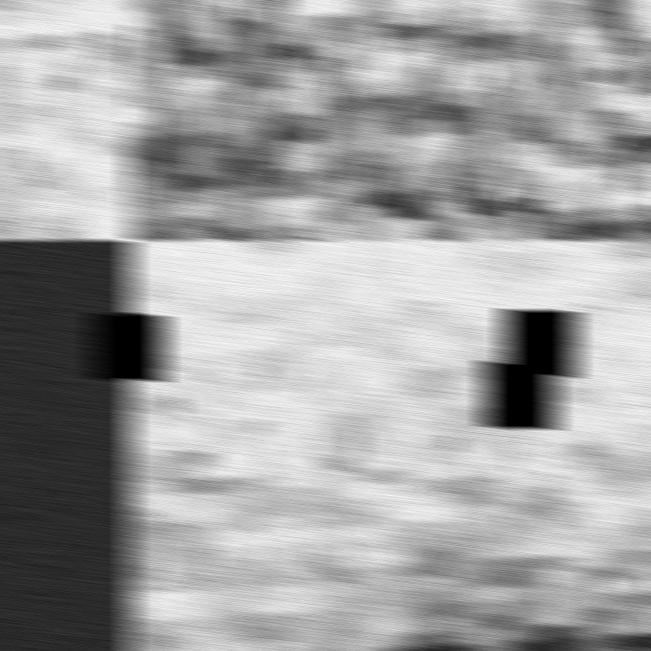AirbagV2: (125, 239, 651, 651), (125, 0, 651, 240), (0, 0, 135, 240)
